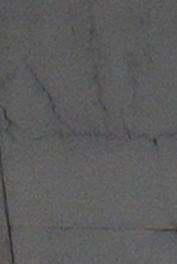fissura: (7, 112, 177, 159)
